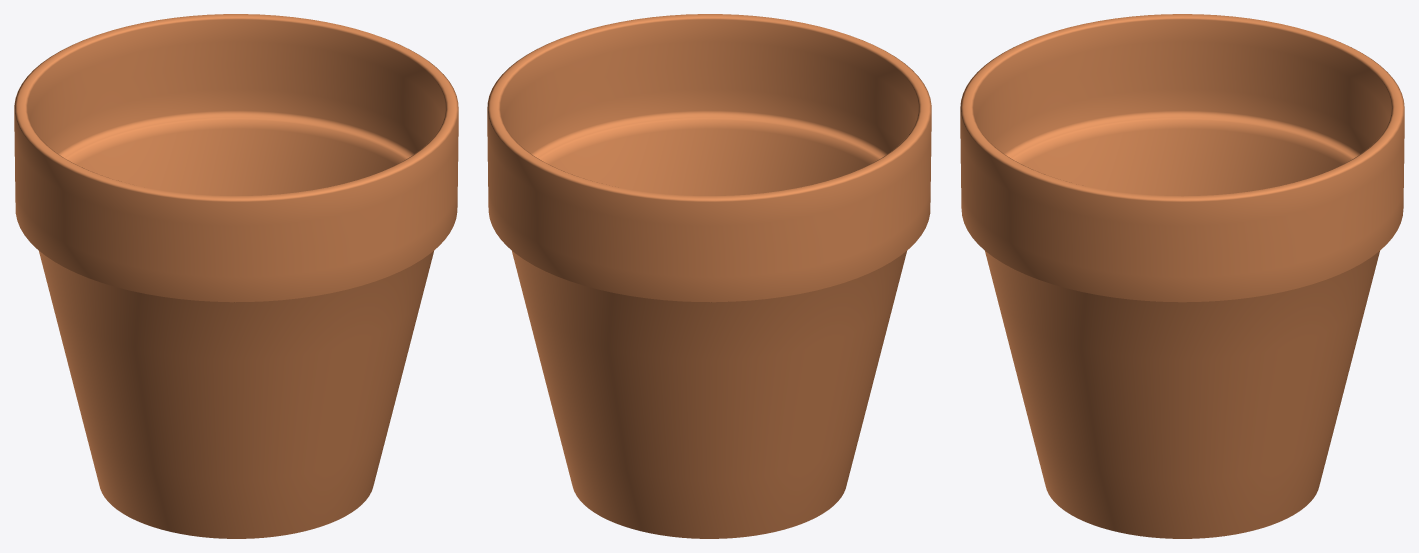
The model's file is Pot.fbx.
3 renders of one model, left to right at view 1: azimuth 30°, elevation 25°; view 2: azimuth 150°, elevation 25°; view 3: azimuth 270°, elevation 25°, orthographic.
Parts seen in each view (by area): view 1: Pot; view 2: Pot; view 3: Pot.
Part boxes in pixels (x1,y1,x2,y2): Pot: (14, 14, 458, 538); Pot: (487, 14, 931, 538); Pot: (960, 14, 1404, 538).
Size of the model in its own units: 8.17 by 7.62 by 8.17.
